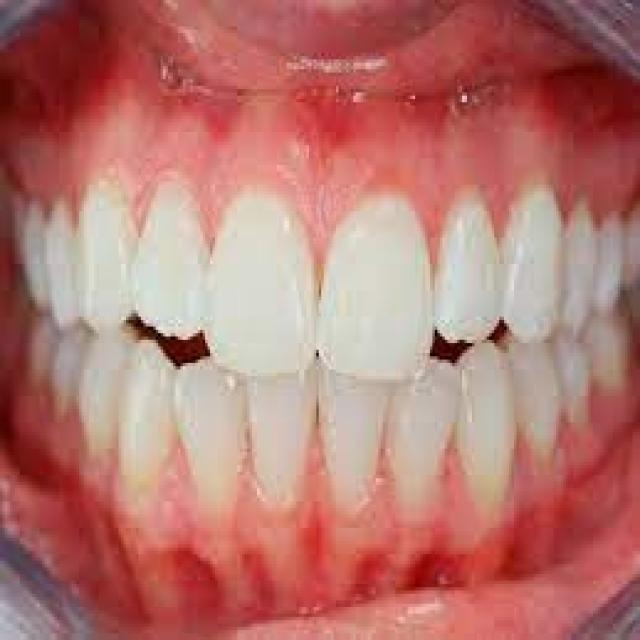tooth: (210, 198, 314, 373), (331, 188, 425, 370), (457, 346, 512, 524), (141, 185, 200, 330), (390, 366, 454, 498), (442, 204, 499, 330), (175, 366, 235, 472), (321, 366, 373, 485), (124, 340, 170, 472), (244, 379, 306, 468), (89, 182, 124, 324), (514, 198, 556, 313), (559, 204, 588, 340), (512, 336, 551, 436), (44, 201, 76, 317), (558, 336, 596, 429), (87, 340, 121, 439), (15, 198, 47, 290), (600, 218, 620, 300)
